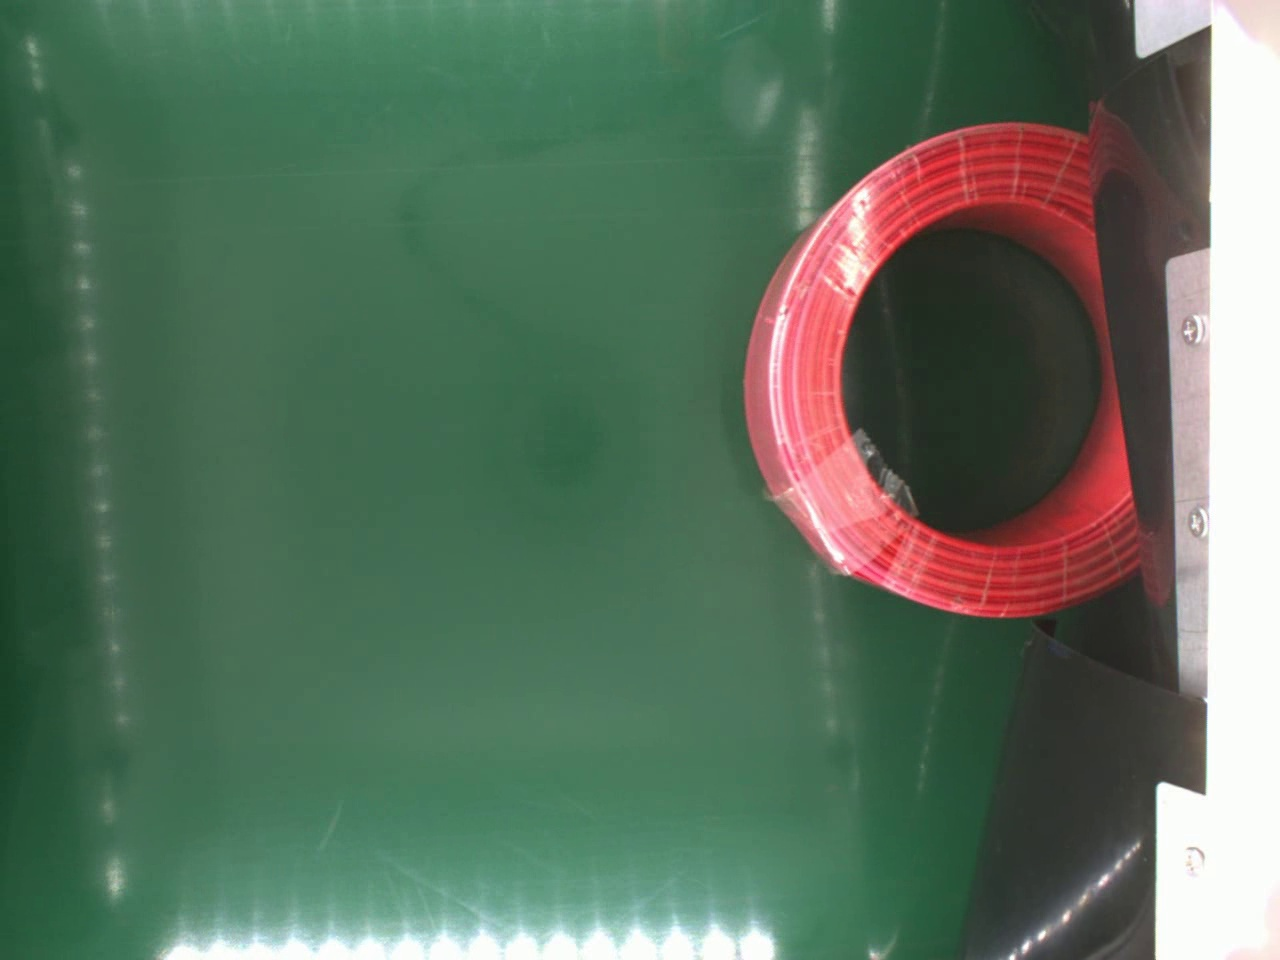red: (734, 121, 1151, 621)
